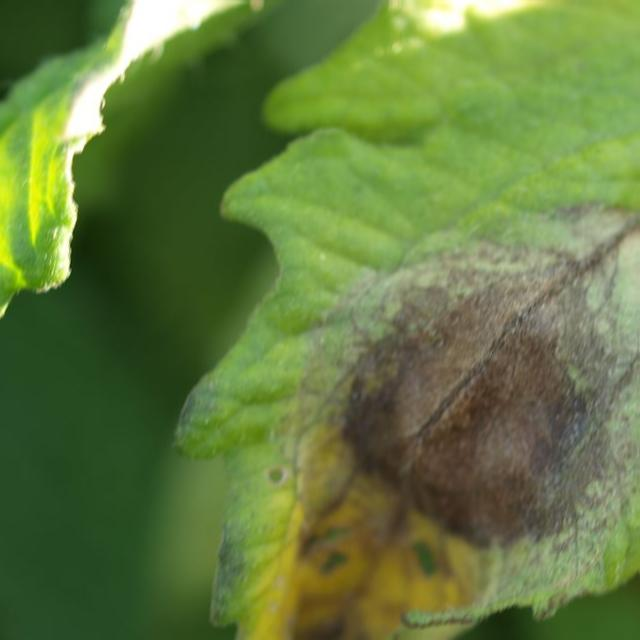Tomato leaf late blight: (135, 0, 640, 640)
